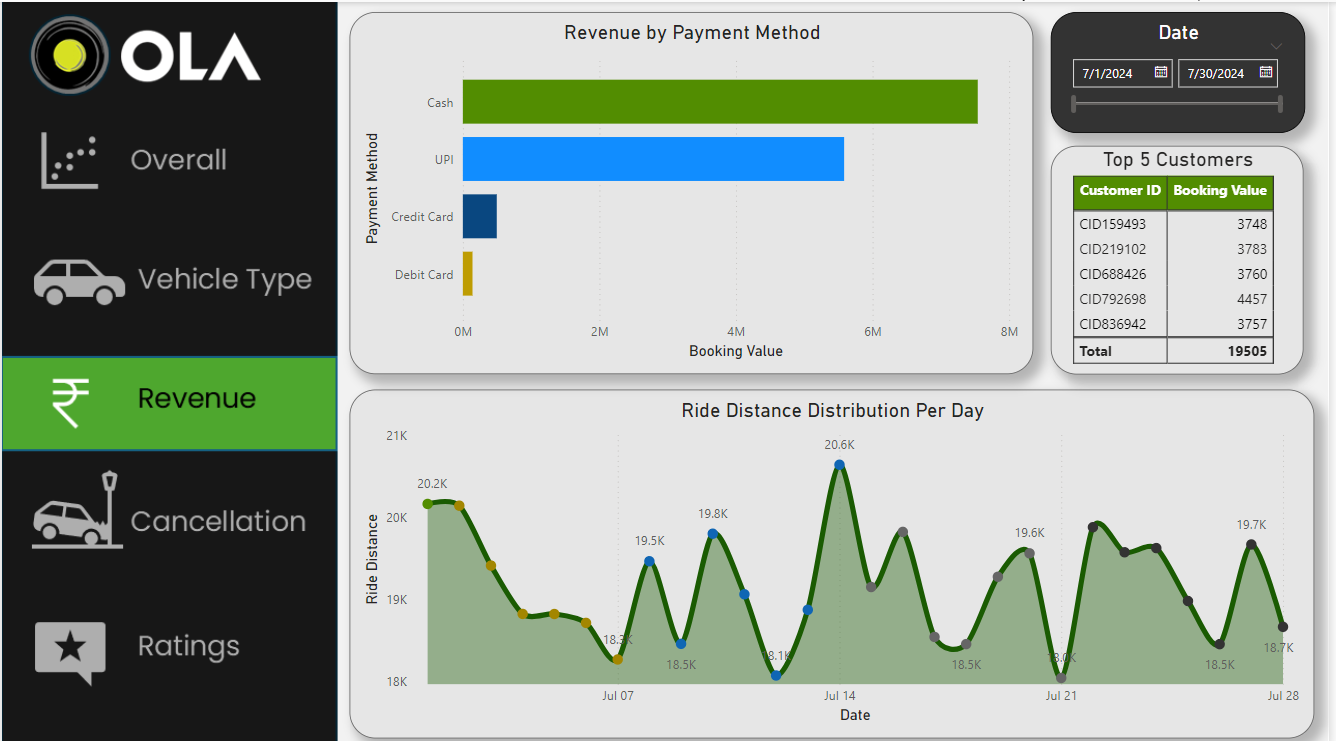

The page's visual inventory and layout, read from the dashboard file:
{"tool":"powerbi","page":{"name":"Revenue","canvas":[1280,720],"ordinal":2},"visuals":[{"type":"actionButton","box":[0,111,324.5,90.5],"z":0},{"type":"actionButton","box":[0,223.2,324.5,90.5],"z":1000},{"type":"actionButton","box":[0,445.2,324.5,90.5],"z":2000},{"type":"areaChart","title":"Ride Distance Distribution Per Day ","fields":{"Category":["Bookings.Date"],"Y":["Sum(Bookings.Ride_Distance)"]},"box":[335.4,374,931.4,336.6],"z":2500},{"type":"actionButton","box":[0,581.5,324.5,90.5],"z":3000},{"type":"actionButton","box":[0,580.3,324.5,90.5],"z":4000},{"type":"clusteredBarChart","title":"Revenue by Payment Method","fields":{"Category":["Bookings.Payment_Method"],"Y":["Sum(Bookings.Booking_Value)"]},"box":[334.8,9.6,660,349.9],"z":5000},{"type":"slicer","title":"Date","fields":{"Values":["Bookings.Date"]},"box":[1012.7,9.6,245.6,116.6],"z":7000},{"type":"tableEx","title":"Top 5 Customers","fields":{"Values":["Bookings.Customer_ID","Sum(Bookings.Booking_Value)"]},"box":[1012.7,138.6,244.3,220.9],"z":8000}]}

Visuals, with their boxes on the page's 1280x720 design canvas (x1, y1, x2, y2). These are canvas units, not pixel positions in the 1336x741 screenshot, which may show the page scaled, cropped or inside an application window:
actionButton: BBox(0, 111, 324, 202)
actionButton: BBox(0, 223, 324, 314)
actionButton: BBox(0, 445, 324, 536)
"Ride Distance Distribution Per Day " areaChart: BBox(335, 374, 1267, 711)
actionButton: BBox(0, 582, 324, 672)
actionButton: BBox(0, 580, 324, 671)
"Revenue by Payment Method" clusteredBarChart: BBox(335, 10, 995, 360)
"Date" slicer: BBox(1013, 10, 1258, 126)
"Top 5 Customers" tableEx: BBox(1013, 139, 1257, 360)
